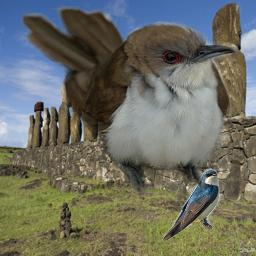Cuckoo: (21, 6, 238, 200)
Swallow: (160, 167, 222, 242)
